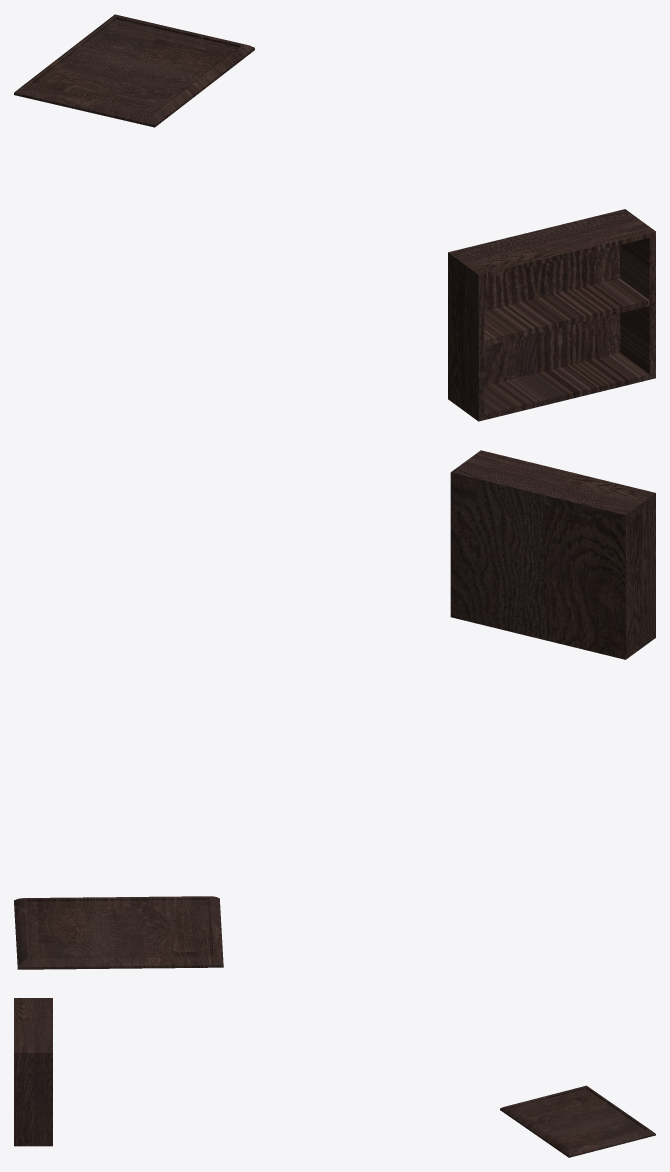
Rendered from шкаф пустой.fbx.
3 renders of one model, top to bottom at view 1: azimuth 30°, elevation 25°; view 2: azimuth 150°, elevation 25°; view 3: azimuth 270°, elevation 25°, orthographic. The views are drawn at different scales.
Parts seen in each view (by area): view 1: Cube.006, Плоскость.011; view 2: Cube.006, Плоскость.011; view 3: Плоскость.011, Cube.006.
Boxes of the visible parts, left/top/right/bottom form: Cube.006: left=448, top=209, right=655, bottom=421; Плоскость.011: left=14, top=14, right=254, bottom=127; Cube.006: left=450, top=450, right=655, bottom=659; Плоскость.011: left=14, top=896, right=223, bottom=969; Плоскость.011: left=500, top=1085, right=655, bottom=1157; Cube.006: left=14, top=998, right=52, bottom=1146.
Bounding box in the file's own units: 242 × 151 × 936.
1 material, 1 textured.
